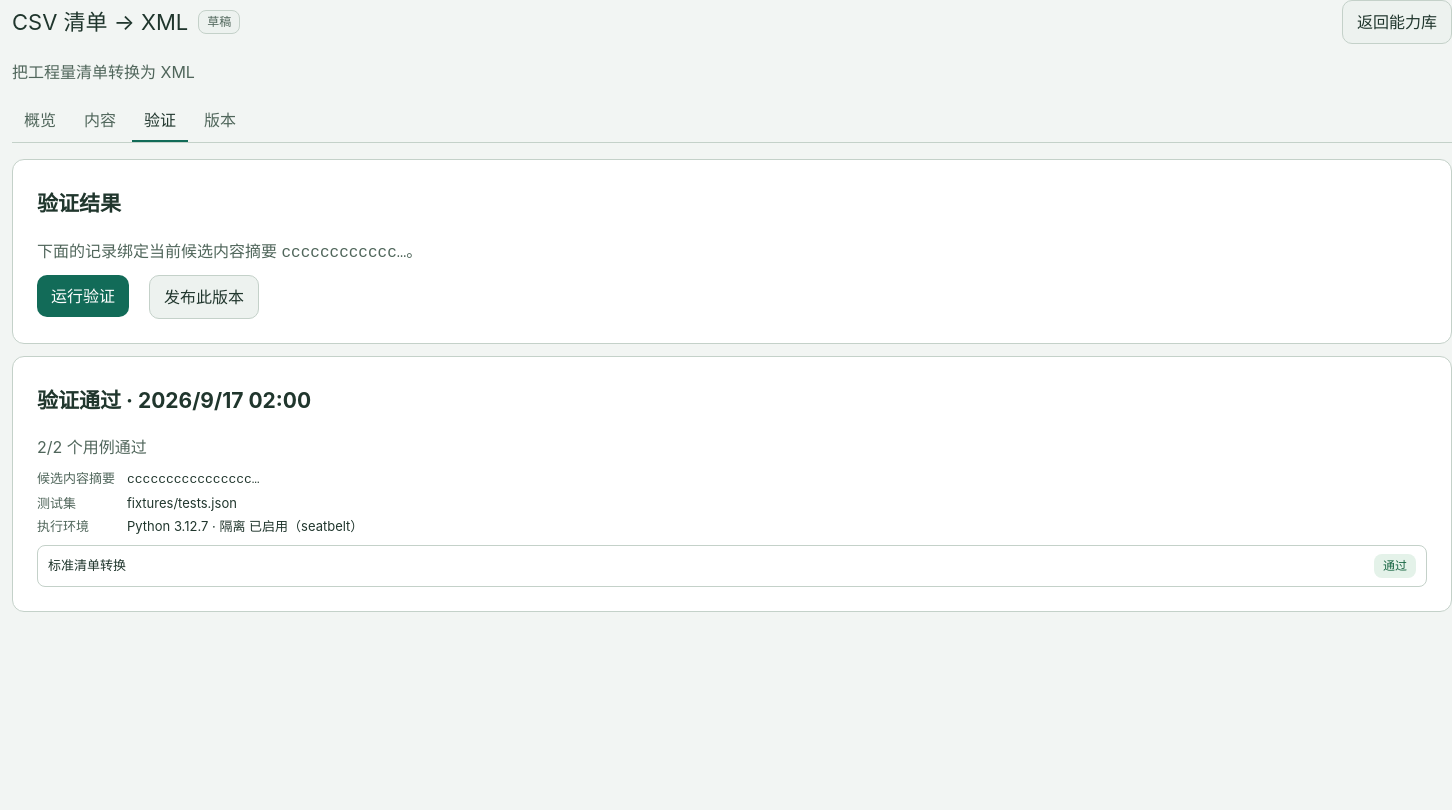
Test case: enables publish only with passing evidence bound to the current digest, and publishes that revision
Click the button "发布此版本". click: (204, 297)
box: [149,275,259,319]
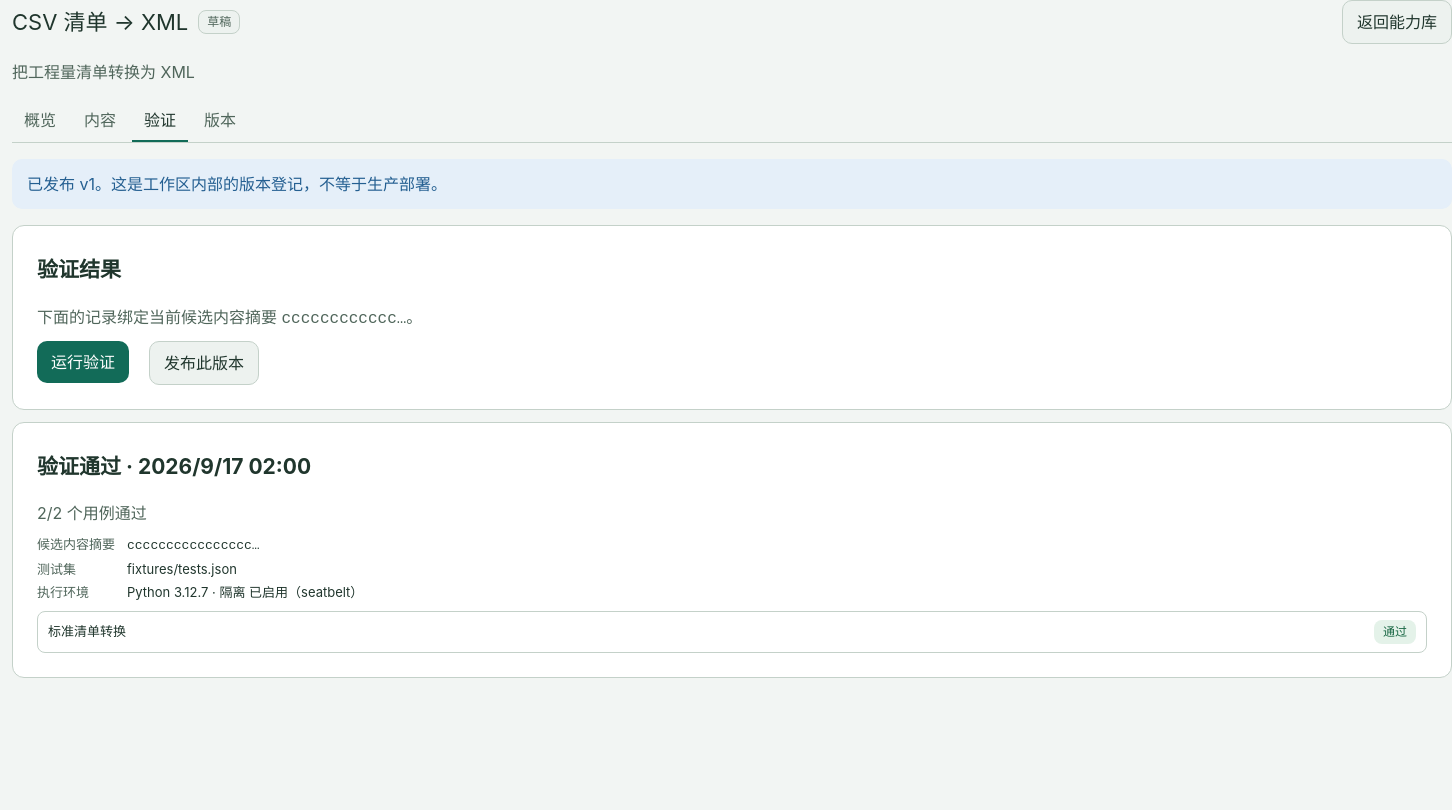
expect the text "已发布 v1。这是工作区内部的版本登记，不等于生产部署。" is shown: met, box [12,159,1451,209]
